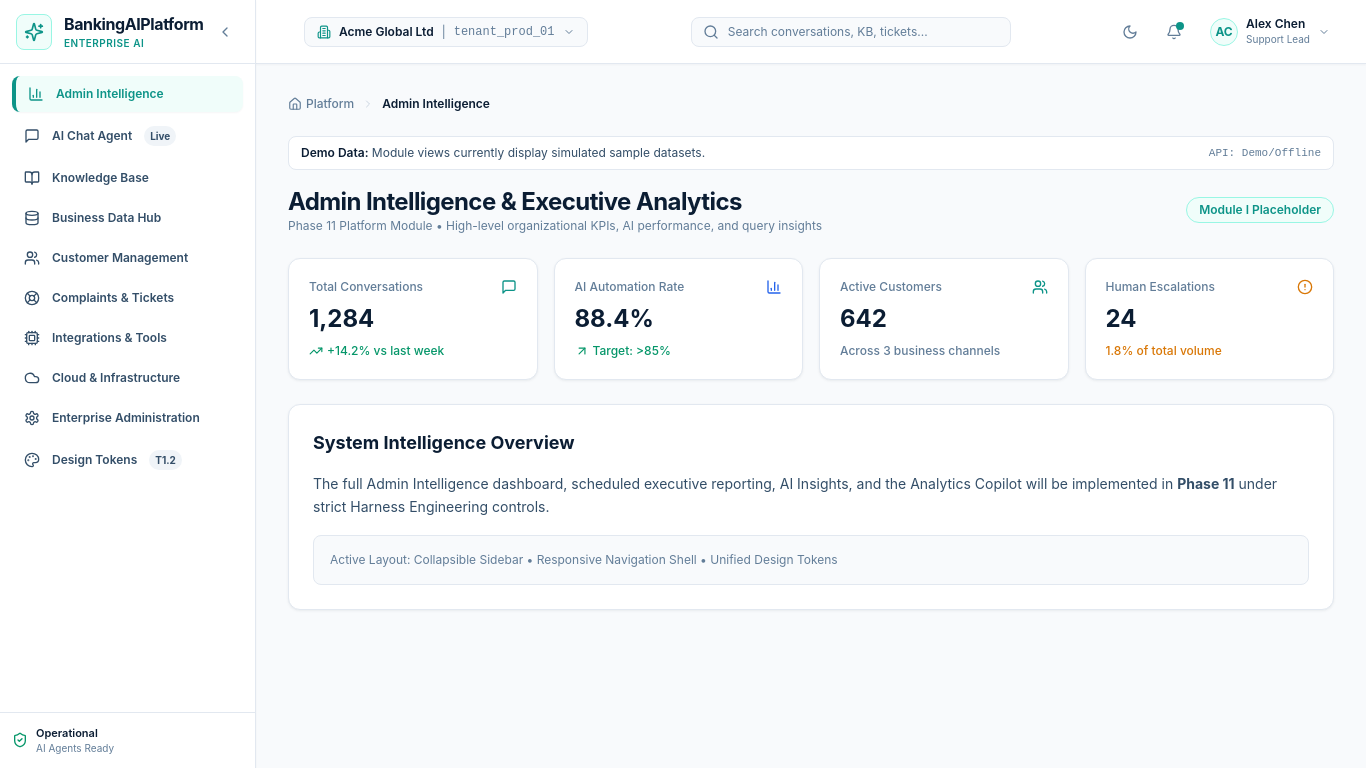
Test: BankingAIPlatform AppShell, Navigation & Module Views Verification (Task 1.4 & 1.5) › toggles sidebar collapse state when clicking the chevron toggle
Note: Click collapse
Click the button named "Collapse Sidebar": [225, 32] box [211, 18, 239, 46]
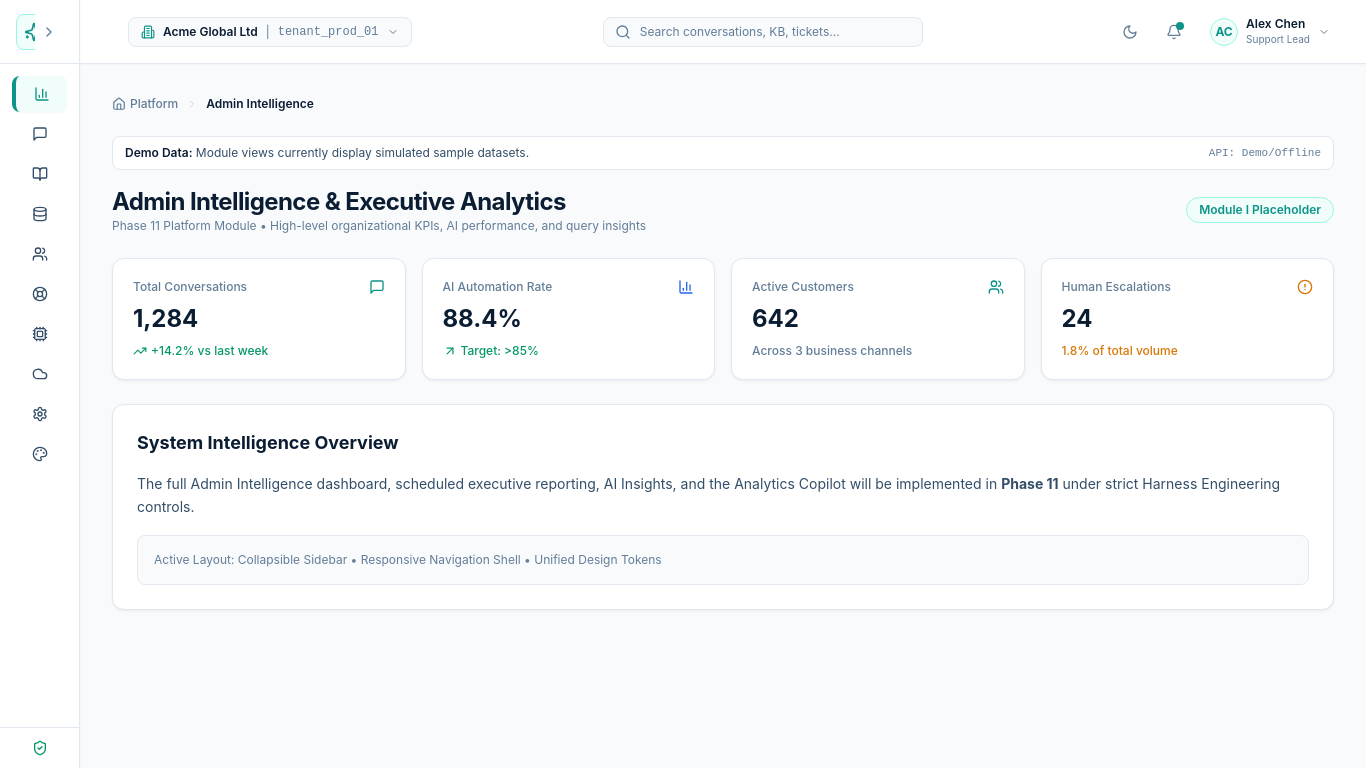
expect the button named "Expand Sidebar" is shown: met
Note: Click expand
Click the button named "Expand Sidebar": [49, 32] box [35, 18, 63, 46]
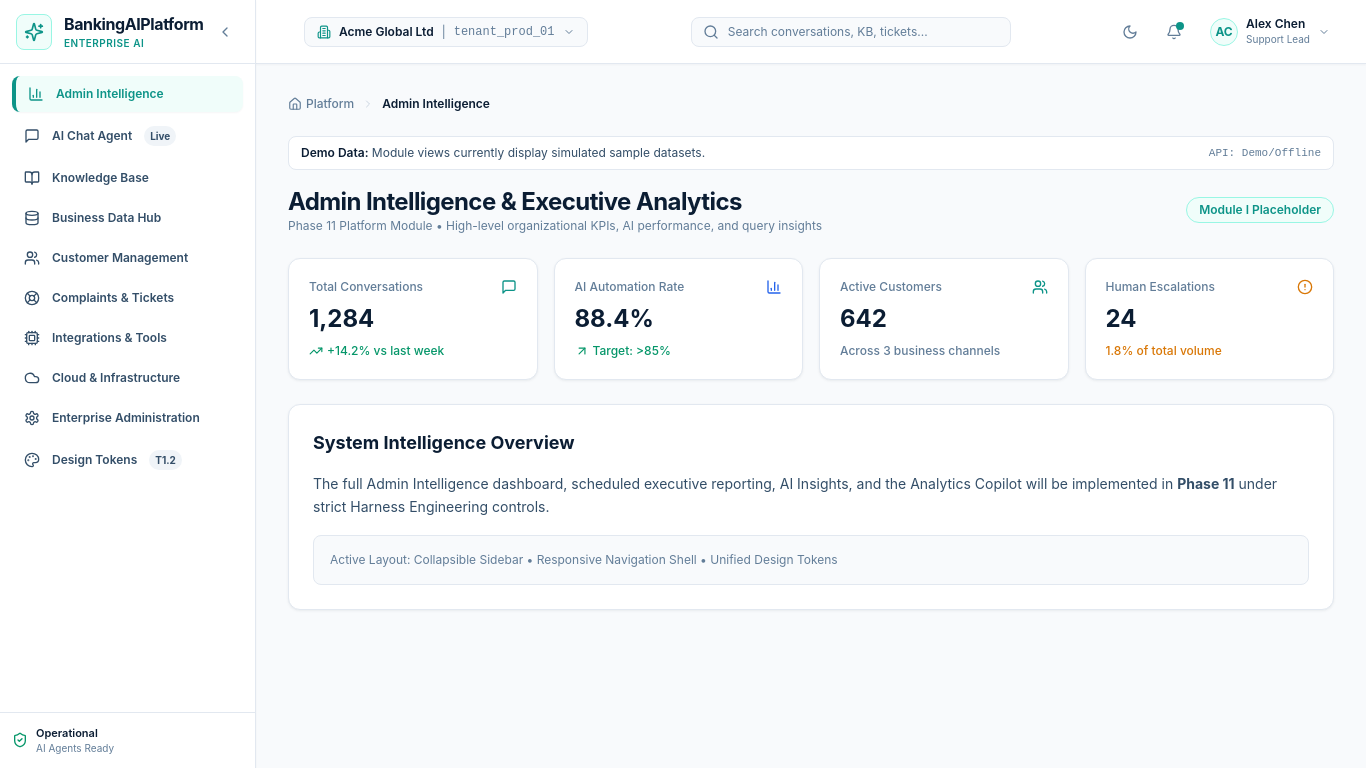
expect the button named "Collapse Sidebar" is shown: met, box [211, 18, 239, 46]
